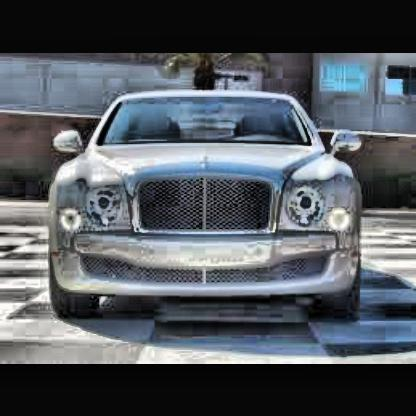Bentley Mulsanne Sedan 2011: (50, 93, 369, 317)
